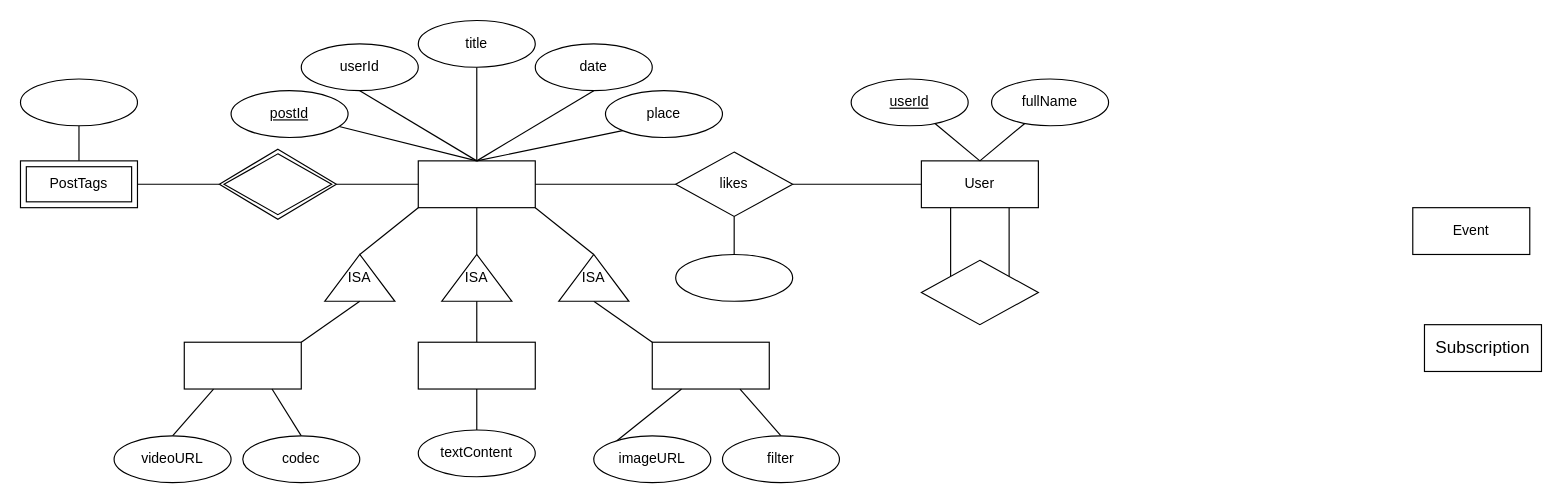
The diagram is 1562 pixels wide and 503 high, and some of its shapes have lost their labels. Each missing label, with the box of its shape:
friends with: (920, 259, 1038, 325)
has tag: (218, 148, 336, 219)
ImagePost: (651, 341, 769, 389)
Post: (417, 160, 535, 208)
tag: (19, 78, 137, 126)
TextPost: (417, 341, 535, 389)
timestamp: (675, 253, 793, 301)
VideoPost: (183, 341, 301, 389)
